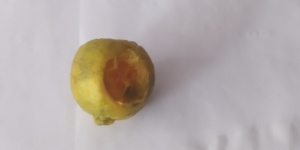BAD: (70, 33, 153, 123)
